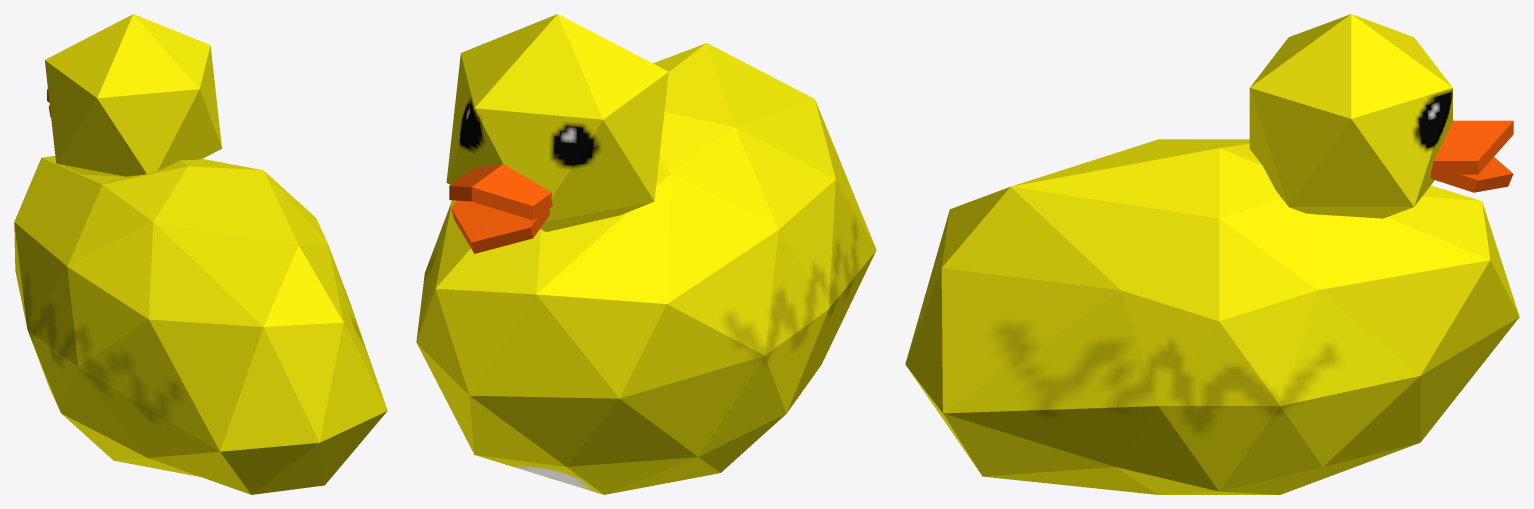
Rendered from utka.glb.
3 renders of one model, left to right at view 1: azimuth 30°, elevation 25°; view 2: azimuth 150°, elevation 25°; view 3: azimuth 270°, elevation 25°, orthographic. The views are drawn at different scales.
Visible parts, largest first — view 1: Icosphere, Icosphere.001; view 2: Icosphere, Icosphere.001, Cube, Cube.001; view 3: Icosphere, Icosphere.001, Cube, Cube.001.
Boxes of the visible parts, bbox=[...] form: Icosphere: bbox=[14, 156, 387, 494]; Icosphere.001: bbox=[44, 14, 221, 176]; Icosphere: bbox=[416, 43, 876, 494]; Icosphere.001: bbox=[446, 14, 668, 232]; Cube: bbox=[449, 164, 552, 220]; Cube.001: bbox=[451, 200, 550, 253]; Icosphere: bbox=[905, 139, 1519, 494]; Icosphere.001: bbox=[1249, 14, 1452, 218]; Cube: bbox=[1430, 120, 1513, 174]; Cube.001: bbox=[1430, 157, 1513, 192].
Size of the model in its own units: 0.2972 by 0.4129 by 0.487.
3 materials, 3 textured.
